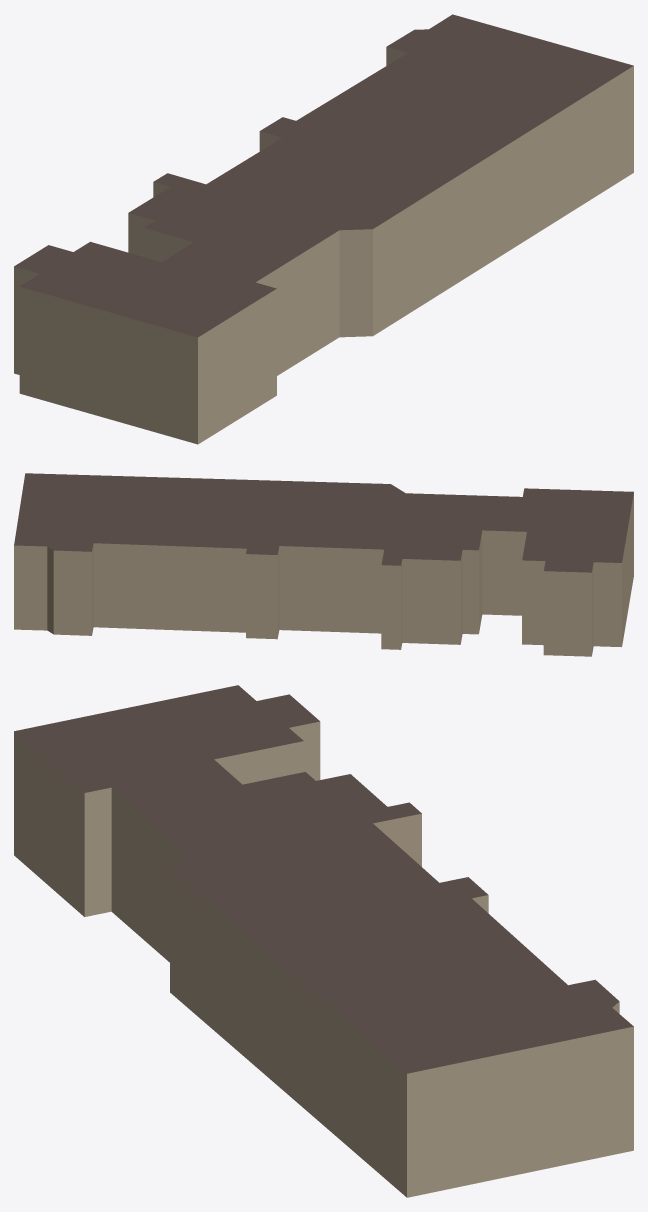
3 views of the same model, one above another, from view 1: azimuth 30°, elevation 25°; view 2: azimuth 150°, elevation 25°; view 3: azimuth 270°, elevation 25° (orthographic). The views are drawn at different scales.
Parts seen in each view (by area): view 1: HP-w1512359753; view 2: HP-w1512359753; view 3: HP-w1512359753.
Boxes of the visible parts, x1,y1,x2,y2 form: HP-w1512359753: (14, 14, 633, 444); HP-w1512359753: (14, 473, 633, 656); HP-w1512359753: (14, 685, 633, 1197).
Size of the model in its own units: 60.44 by 9 by 40.75.
